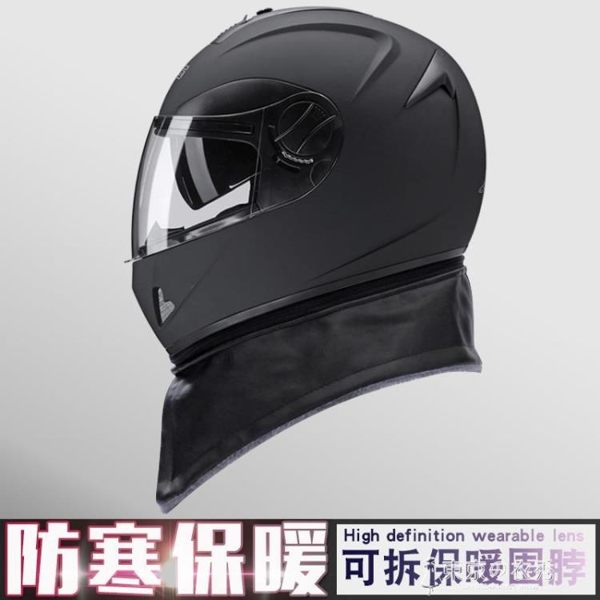helmet: (117, 37, 503, 300)
